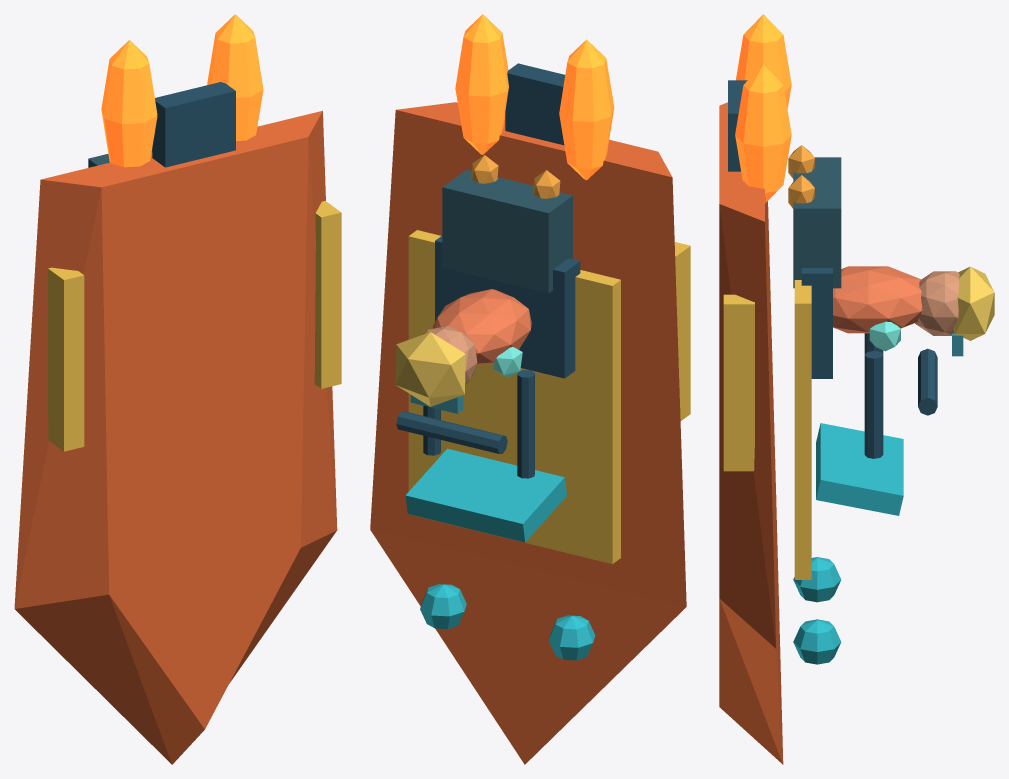
Rendered from wavebreak_boat_refined.glb.
The picture shows the model from 3 angles, left to right: view 1: azimuth 30°, elevation 25°; view 2: azimuth 150°, elevation 25°; view 3: azimuth 270°, elevation 25°; orthographic projection. The views are drawn at different scales.
Parts seen in each view (by area): view 1: Boat_Hull, Boat_LeftSkid, Boat_EnginePod, Boat_Exhaust_L, Boat_RightSkid, Boat_Exhaust_R; view 2: Boat_Hull, Boat_Deck, EngineCowl, Boat_Windshield, Boat_Seat, Boat_Exhaust_L, Boat_Exhaust_R, DriverLifeVest, DriverHelmet, Boat_EnginePod, Boat_LeftSkid, Boat_Rollbar_Top (+7 smaller); view 3: Boat_Hull, Boat_Windshield, Boat_RightSkid, Boat_Exhaust_R, Boat_Deck, DriverLifeVest, EngineCowl, Boat_Seat, Boat_Exhaust_L, DriverHead, DriverHelmet, Boat_Rollbar_R (+7 smaller).
Part boxes in pixels (x1,y1,x2,y2): Boat_Hull: [14, 110, 337, 764]; Boat_LeftSkid: [48, 267, 84, 451]; Boat_EnginePod: [152, 82, 235, 167]; Boat_Exhaust_L: [101, 40, 157, 167]; Boat_RightSkid: [314, 201, 341, 388]; Boat_Exhaust_R: [207, 14, 263, 140]; Boat_Hull: [370, 102, 686, 764]; Boat_Deck: [408, 230, 620, 563]; EngineCowl: [442, 169, 572, 293]; Boat_Windshield: [405, 448, 566, 542]; Boat_Seat: [435, 236, 580, 378]; Boat_Exhaust_L: [559, 39, 614, 179]; Boat_Exhaust_R: [455, 14, 508, 154]; DriverLifeVest: [433, 289, 531, 365]; DriverHelmet: [395, 332, 465, 406]; Boat_EnginePod: [505, 63, 565, 145]; Boat_LeftSkid: [674, 242, 690, 420]; Boat_Rollbar_Top: [396, 411, 507, 453]; Boat_Hull: [719, 102, 783, 764]; Boat_Windshield: [816, 423, 903, 515]; Boat_RightSkid: [723, 294, 754, 471]; Boat_Exhaust_R: [735, 64, 791, 203]; Boat_Deck: [794, 280, 811, 579]; DriverLifeVest: [833, 266, 922, 333]; EngineCowl: [793, 157, 841, 288]; Boat_Seat: [801, 268, 832, 378]; Boat_Exhaust_L: [736, 14, 791, 108]; DriverHead: [915, 271, 959, 335]; DriverHelmet: [954, 266, 994, 340]; Boat_Rollbar_R: [864, 351, 883, 458].
Size of the model in its own units: 2.56 by 5.65 by 1.94.
